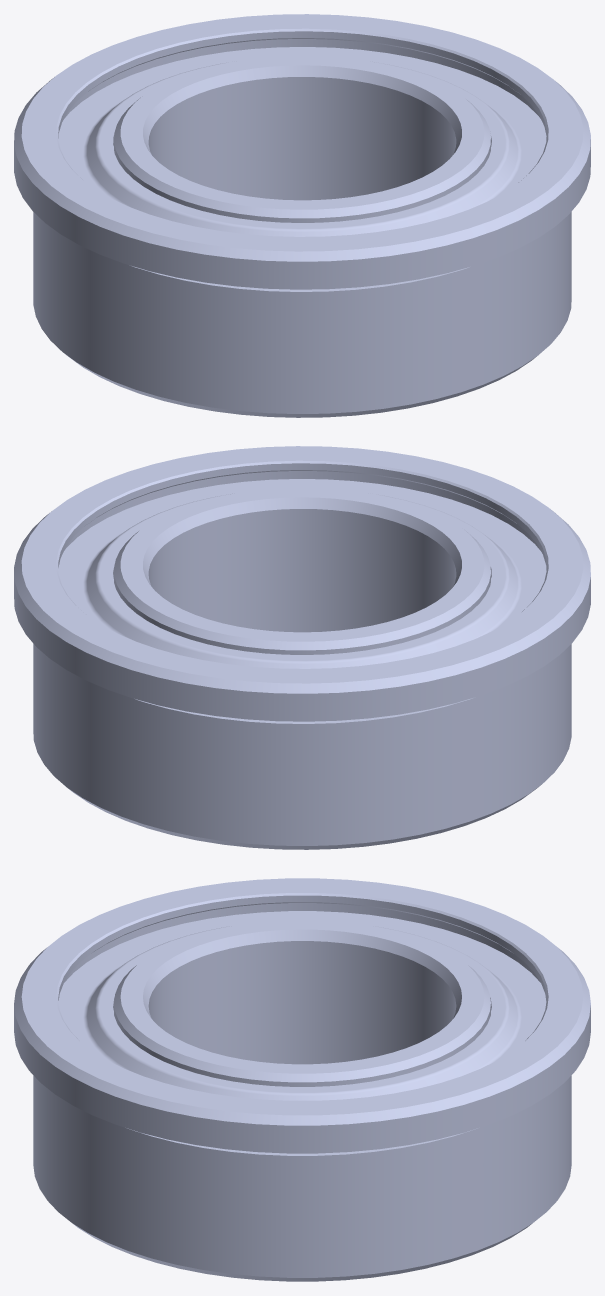
File: Chamfer7_1_.obj
The picture shows the model from 3 angles, top to bottom: view 1: azimuth 30°, elevation 25°; view 2: azimuth 150°, elevation 25°; view 3: azimuth 270°, elevation 25°; orthographic projection.
Parts seen in each view (by area): view 1: mesh1260, mesh1251, mesh1292, mesh1261, mesh1254, mesh1289, mesh1244, mesh1293, mesh1281, mesh1252, mesh1255, mesh1290 (+20 smaller); view 2: mesh1260, mesh1251, mesh1292, mesh1261, mesh1254, mesh1289, mesh1244, mesh1293, mesh1281, mesh1252, mesh1255, mesh1290 (+20 smaller); view 3: mesh1261, mesh1293, mesh1251, mesh1255, mesh1289, mesh1244, mesh1253, mesh1281, mesh1291, mesh1248, mesh1288, mesh1243 (+9 smaller).
Boxes of the visible parts, bbox=[...] form: mesh1260: bbox=[33, 212, 437, 413]; mesh1251: bbox=[21, 14, 583, 251]; mesh1292: bbox=[225, 77, 456, 200]; mesh1261: bbox=[437, 212, 571, 398]; mesh1254: bbox=[14, 145, 446, 289]; mesh1289: bbox=[120, 56, 484, 209]; mesh1244: bbox=[58, 47, 546, 196]; mesh1293: bbox=[148, 85, 225, 191]; mesh1281: bbox=[99, 67, 505, 228]; mesh1252: bbox=[14, 77, 446, 261]; mesh1255: bbox=[447, 139, 590, 273]; mesh1290: bbox=[222, 65, 461, 154]; mesh1260: bbox=[167, 644, 571, 845]; mesh1251: bbox=[21, 446, 583, 683]; mesh1292: bbox=[148, 509, 379, 632]; mesh1261: bbox=[33, 644, 167, 830]; mesh1254: bbox=[158, 577, 590, 721]; mesh1289: bbox=[120, 488, 484, 641]; mesh1244: bbox=[58, 479, 546, 628]; mesh1293: bbox=[379, 517, 456, 623]; mesh1281: bbox=[99, 499, 505, 660]; mesh1252: bbox=[158, 509, 590, 693]; mesh1255: bbox=[14, 571, 157, 705]; mesh1290: bbox=[143, 497, 382, 586]; mesh1261: bbox=[33, 1075, 571, 1277]; mesh1293: bbox=[148, 941, 456, 1064]; mesh1251: bbox=[21, 878, 583, 1115]; mesh1255: bbox=[14, 1005, 590, 1153]; mesh1289: bbox=[120, 920, 484, 1073]; mesh1244: bbox=[58, 911, 546, 1060]; mesh1253: bbox=[14, 997, 590, 1125]; mesh1281: bbox=[99, 930, 505, 1092]; mesh1291: bbox=[143, 929, 461, 1005]; mesh1248: bbox=[87, 1009, 517, 1100]; mesh1288: bbox=[114, 997, 490, 1082]; mesh1243: bbox=[64, 903, 540, 982].
Bounding box in the file's own units: 0.015 × 0.005 × 0.015.
